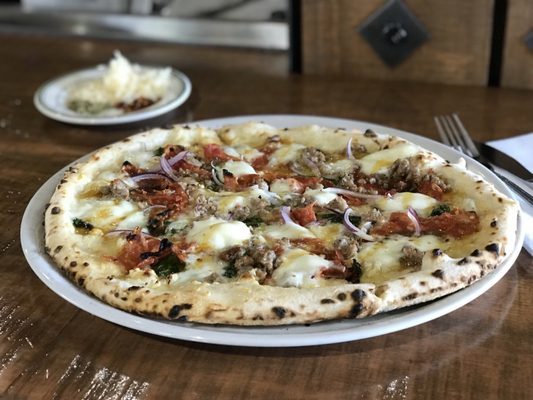burger: (433, 111, 533, 211)
